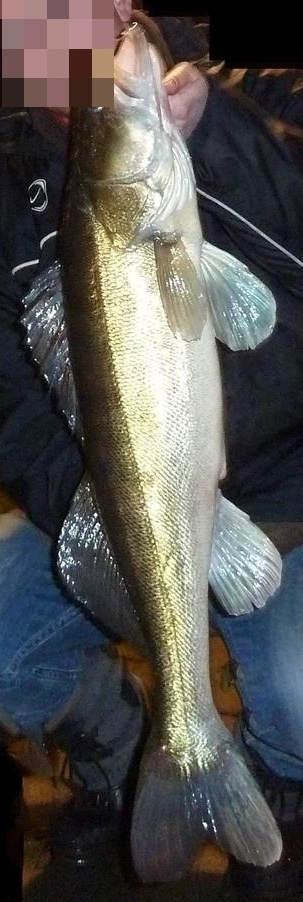Sander lucioperca: (20, 20, 283, 882)
